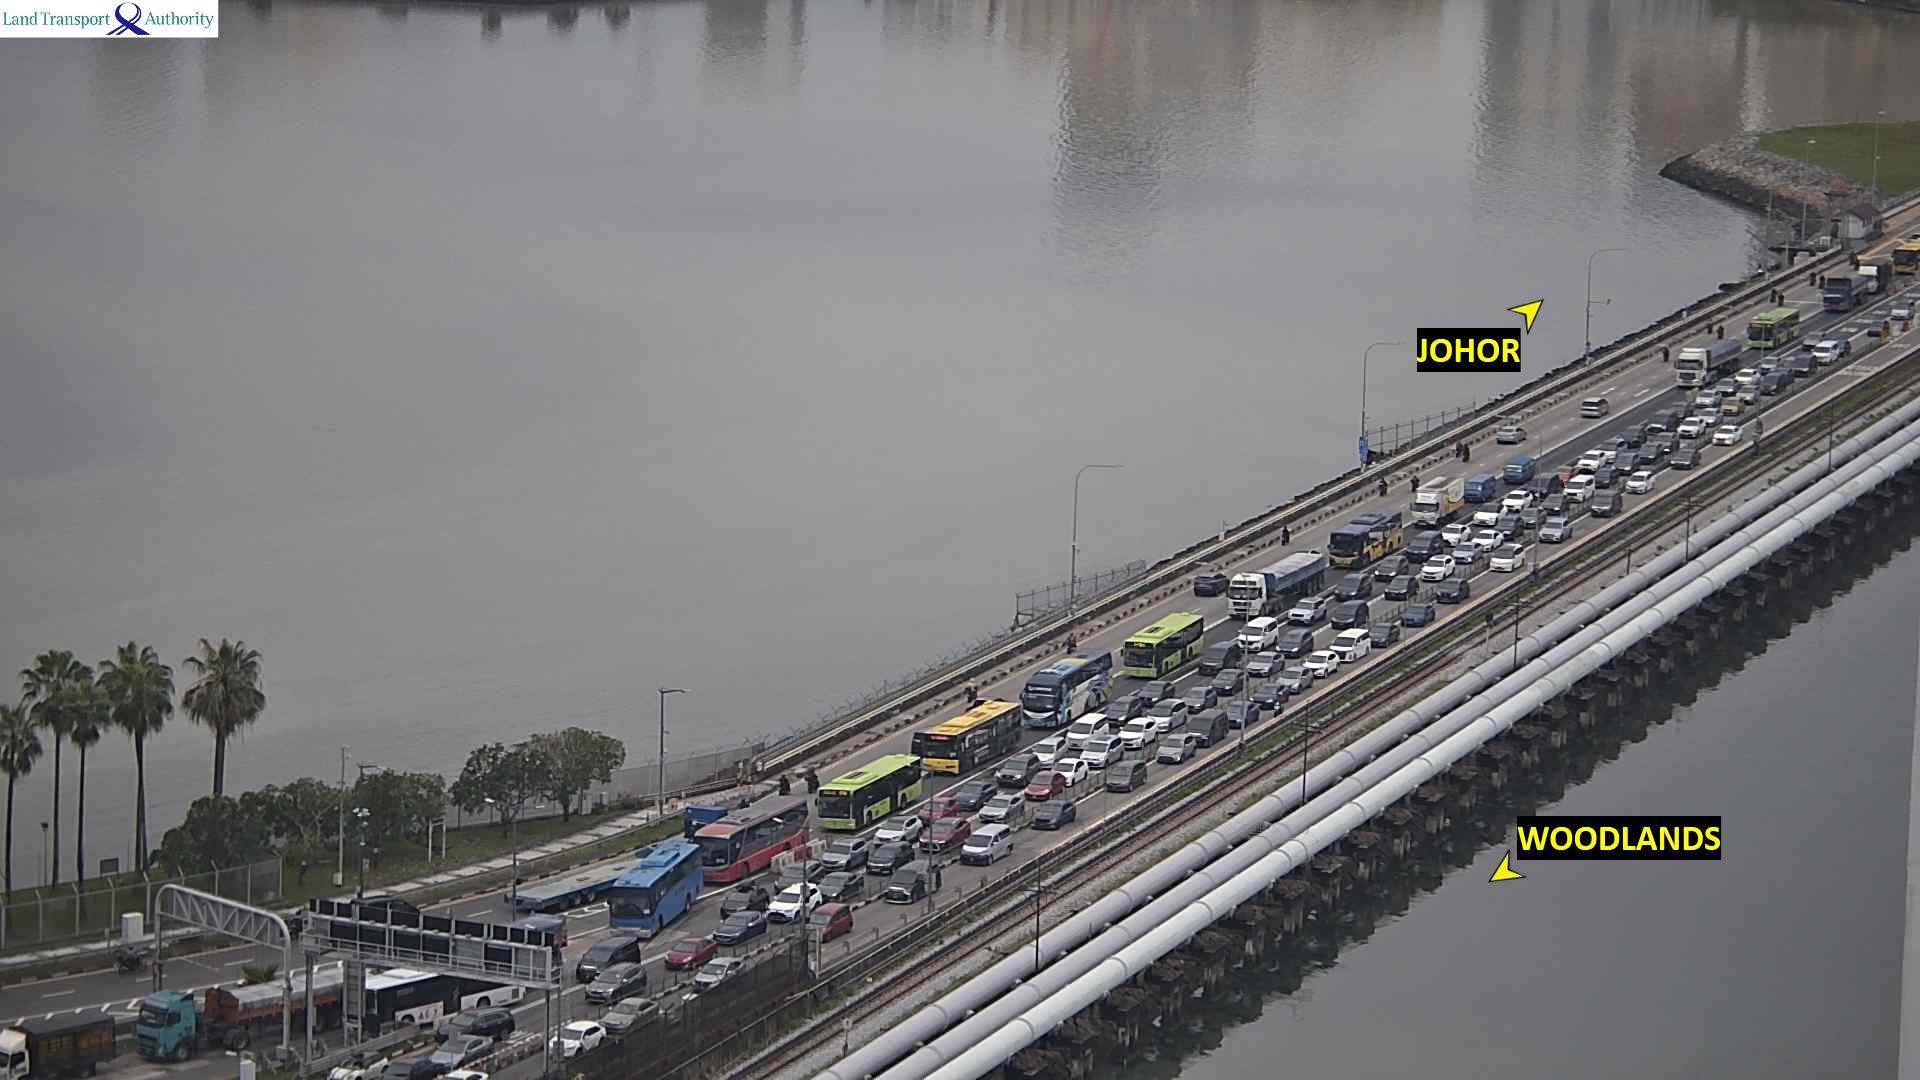vehicle-causeway-johor: (1196, 572, 1226, 596), (1497, 425, 1526, 444), (1581, 398, 1607, 418), (806, 770, 820, 790), (777, 774, 789, 793), (1279, 525, 1290, 545), (1378, 477, 1387, 493), (1704, 319, 1713, 334), (1809, 272, 1817, 286), (1849, 252, 1858, 264), (1776, 290, 1784, 303), (1717, 326, 1725, 339), (1411, 476, 1419, 488), (1771, 287, 1776, 301), (1662, 347, 1665, 363)
vehicle-causeway-singapore: (127, 965, 492, 1054), (319, 975, 518, 1035), (0, 1013, 119, 1080), (612, 843, 700, 932), (692, 811, 804, 873), (814, 758, 923, 820), (914, 704, 1021, 764), (1224, 558, 1329, 617), (1021, 659, 1110, 724), (1121, 615, 1207, 661), (512, 880, 611, 916), (1331, 521, 1406, 566), (575, 939, 646, 980), (1676, 343, 1745, 385), (1817, 273, 1886, 311), (1749, 307, 1805, 347), (585, 973, 650, 1005), (694, 957, 758, 989), (1179, 641, 1241, 674), (603, 998, 666, 1030), (812, 839, 874, 870), (546, 1022, 604, 1051), (709, 915, 769, 942), (766, 893, 825, 919), (861, 847, 919, 873), (661, 940, 713, 967), (1067, 713, 1104, 750), (1407, 505, 1458, 531), (1122, 716, 1185, 737), (953, 840, 1009, 864), (922, 824, 973, 849), (1461, 475, 1506, 502), (975, 799, 1023, 824), (1083, 735, 1120, 766), (1331, 599, 1374, 625), (1029, 808, 1077, 831), (1238, 616, 1286, 638), (998, 756, 1036, 783), (1273, 633, 1319, 655), (1302, 651, 1345, 675), (957, 781, 993, 810), (1109, 762, 1145, 791), (1150, 700, 1185, 729), (1118, 717, 1156, 744), (1156, 736, 1193, 762), (1490, 546, 1524, 574), (1025, 774, 1062, 799), (1333, 574, 1369, 599), (1895, 236, 1920, 272), (1394, 607, 1437, 626), (1469, 510, 1511, 530), (1564, 475, 1596, 501), (1240, 658, 1284, 676), (1033, 738, 1065, 764), (1213, 673, 1254, 692), (1495, 491, 1536, 510), (1420, 558, 1456, 580), (1023, 779, 1063, 799), (1226, 703, 1259, 727), (1375, 556, 1408, 580), (1183, 688, 1217, 711), (1762, 369, 1792, 394), (1414, 564, 1455, 583), (1253, 684, 1288, 705), (1623, 471, 1655, 495), (1402, 541, 1441, 559), (1108, 698, 1139, 720), (1283, 605, 1324, 622), (1142, 682, 1175, 703), (1436, 580, 1469, 601), (1706, 427, 1746, 444), (1585, 495, 1621, 513), (1440, 527, 1476, 546), (1059, 758, 1087, 782), (1665, 454, 1702, 471), (1335, 629, 1374, 645), (1379, 585, 1419, 601), (1539, 526, 1577, 542), (1754, 356, 1784, 376), (1576, 452, 1605, 472), (1785, 355, 1815, 375), (1648, 415, 1681, 433), (1448, 547, 1484, 563), (1614, 454, 1640, 475), (1811, 342, 1836, 363), (1617, 429, 1642, 448), (1695, 407, 1721, 426), (1651, 434, 1679, 451), (1677, 417, 1702, 435), (1592, 468, 1615, 487), (1722, 398, 1747, 415), (1639, 444, 1662, 463), (1695, 392, 1721, 406), (1891, 305, 1912, 322), (1869, 320, 1890, 336), (1735, 368, 1758, 382), (1738, 386, 1759, 401), (1601, 440, 1619, 456), (1832, 336, 1849, 352), (1718, 378, 1737, 393), (1805, 332, 1822, 347)
